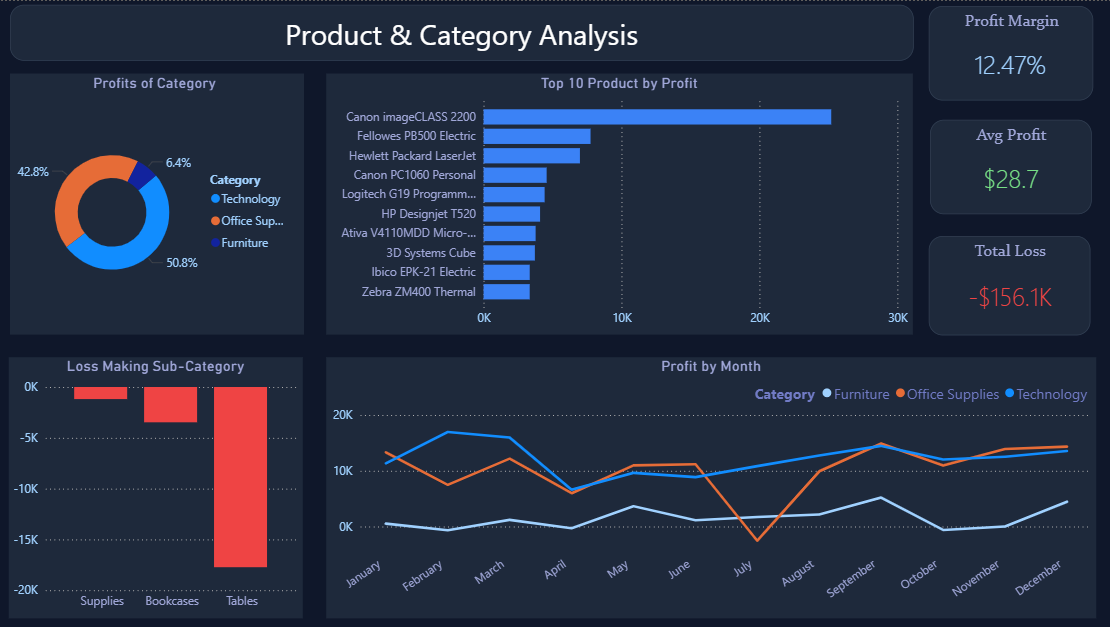

Layout of this report page (visuals, bound fields, positions):
{"tool":"powerbi","page":{"name":"Profit & product analysis","canvas":[1280,720],"ordinal":1},"visuals":[{"type":"donutChart","title":"Profits of Category","fields":{"Category":["product_dim1.Category"],"Y":["Sum(fact_orders__2.Profit)"]},"box":[11.4,82.9,335.7,298.6],"z":0},{"type":"lineChart","title":"Profit by Month ","fields":{"Y":["Sum(fact_orders__2.Profit)"],"Category":["fact_orders__2.Order Date.Variation.Date Hierarchy.Month"],"Series":["product_dim1.Category"]},"box":[372.9,407.1,880,298.6],"z":1000},{"type":"clusteredBarChart","title":"Top 10 Product by Profit","fields":{"Y":["Sum(fact_orders__2.Profit)"],"Category":["product_dim1.product short name"]},"box":[372.9,82.9,670,298.6],"z":2000},{"type":"columnChart","title":"Loss Making Sub-Category","fields":{"Category":["product_dim1.Sub-Category"],"Y":["Sum(fact_orders__2.Profit)"]},"box":[10,407.1,335.7,298.6],"z":3000},{"type":"cardVisual","title":"Avg Profit","fields":{"Data":["Avg(fact_orders__2.Profit)"]},"box":[1063.3,135,185,108.3],"z":4000},{"type":"cardVisual","title":"Profit Margin","fields":{"Data":["fact_orders__2.Profit Margin"]},"box":[1061.7,5,188.3,108.3],"z":5000},{"type":"cardVisual","title":"Total Loss","fields":{"Data":["fact_orders__2.Total Loss"]},"box":[1061.7,268.3,185,113.3],"z":6000},{"type":"textbox","box":[11.4,4.3,1032.9,64.3],"z":7000}]}

Visuals, with their boxes in screenshot pixels (x1, y1, x2, y2), scaled from the page's 1280x720 canvas onto the 1110x627 screenshot:
"Profits of Category" donutChart: [left=10, top=72, right=301, bottom=332]
"Profit by Month " lineChart: [left=323, top=355, right=1086, bottom=615]
"Top 10 Product by Profit" clusteredBarChart: [left=323, top=72, right=904, bottom=332]
"Loss Making Sub-Category" columnChart: [left=9, top=355, right=300, bottom=615]
"Avg Profit" cardVisual: [left=922, top=118, right=1083, bottom=212]
"Profit Margin" cardVisual: [left=921, top=4, right=1084, bottom=99]
"Total Loss" cardVisual: [left=921, top=234, right=1081, bottom=332]
textbox: [left=10, top=4, right=906, bottom=60]
